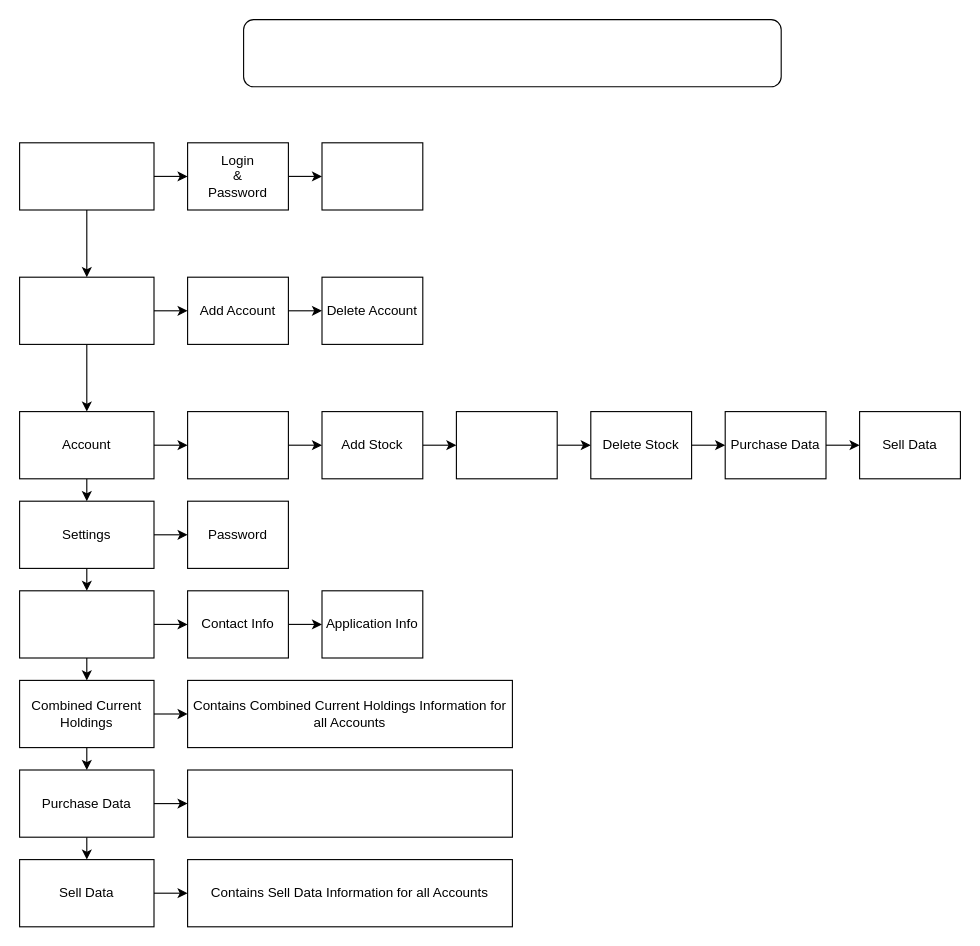
Image size: 980x946. Some labels were removed from this diagram. Here are the shapes that lost their labels. From the top down, the centre of each, then its label:
At (x=511, y=52): "Login Page & Main Page Diagram".
At (x=86, y=176): "Login Page".
At (x=372, y=176): "Fingerprint".
At (x=86, y=310): "Main Page".
At (x=237, y=444): "Search Stock".
At (x=506, y=444): "Sell Stock".
At (x=86, y=624): "About".
At (x=349, y=803): "Contains Purchase Data Information for all Accounts".
